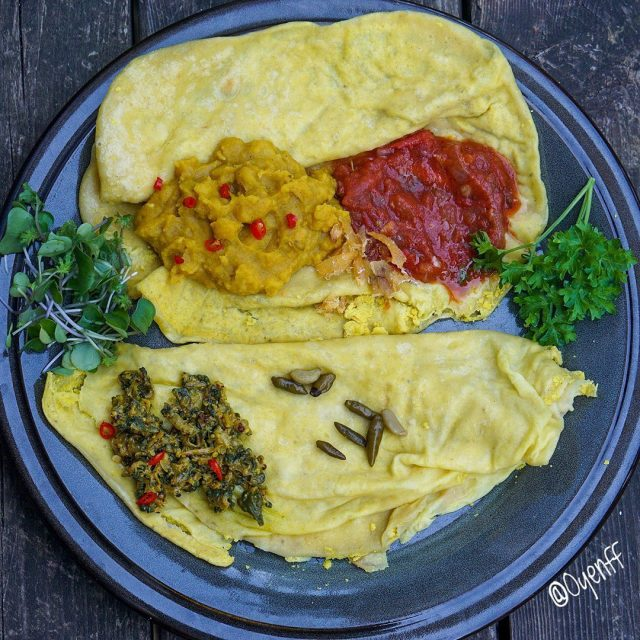Farata: (58, 35, 550, 314), (38, 327, 585, 527)
